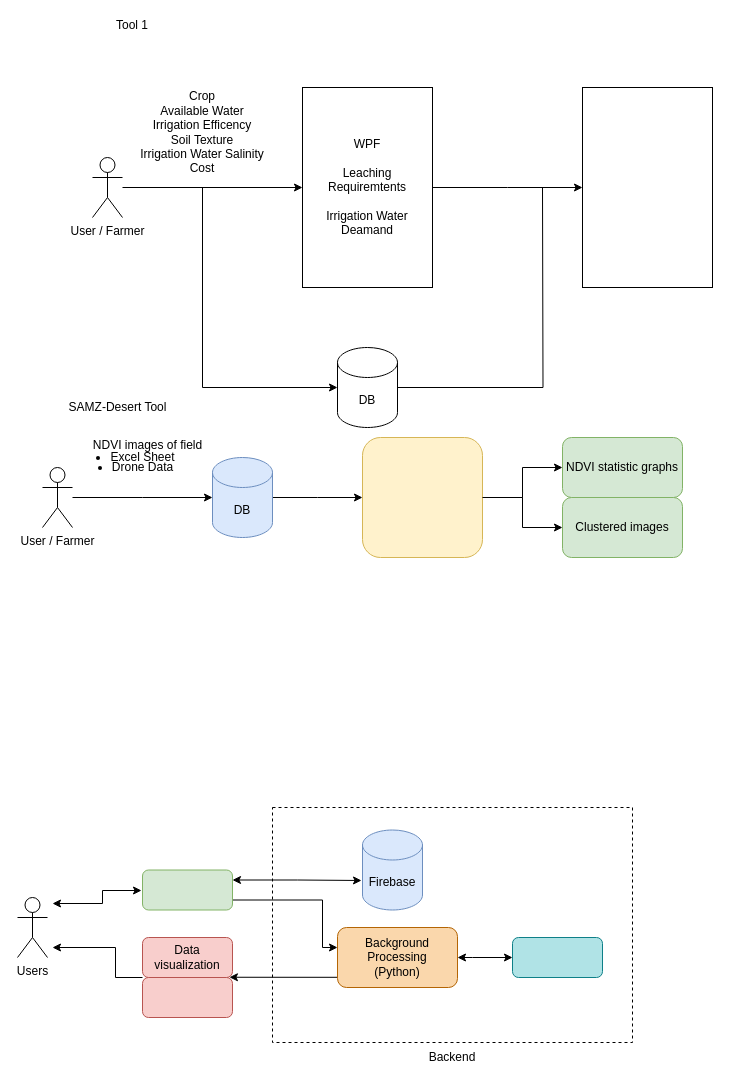
Some shapes in this 730 by 1089 pixel diagram are drawn without their labels. Here are the shapes that lost their labels. From the top down, the centre of each, then its label:
(647,187): Yield Recommendations Profit
(422,497): Background Processing
(187,889): NDVI Excel Sheet
(557,957): Google Map Static API
(187,997): Statistics
